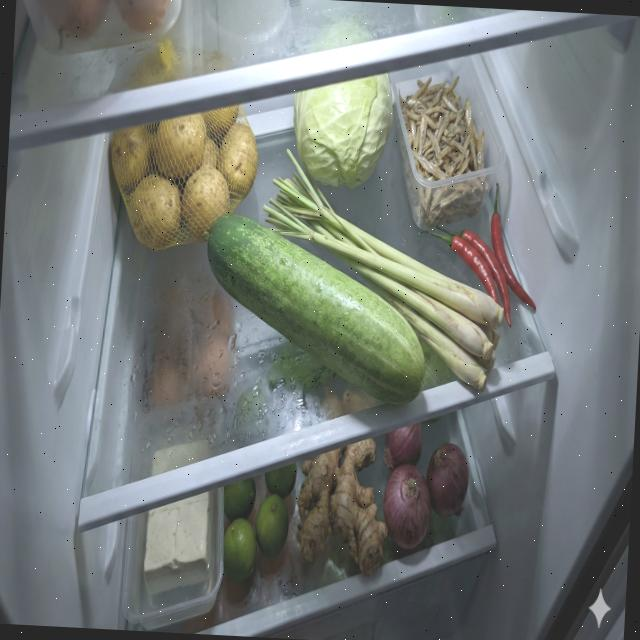anchovies: (391, 70, 495, 230)
cabbage: (289, 67, 395, 191)
chili: (414, 178, 543, 330)
cucumber: (200, 212, 433, 407)
ginger: (294, 432, 393, 577)
lemongrass: (252, 146, 512, 395)
lime: (218, 458, 298, 582)
onion: (378, 421, 472, 552)
potato: (106, 97, 262, 257)
tofu: (143, 488, 216, 599)
